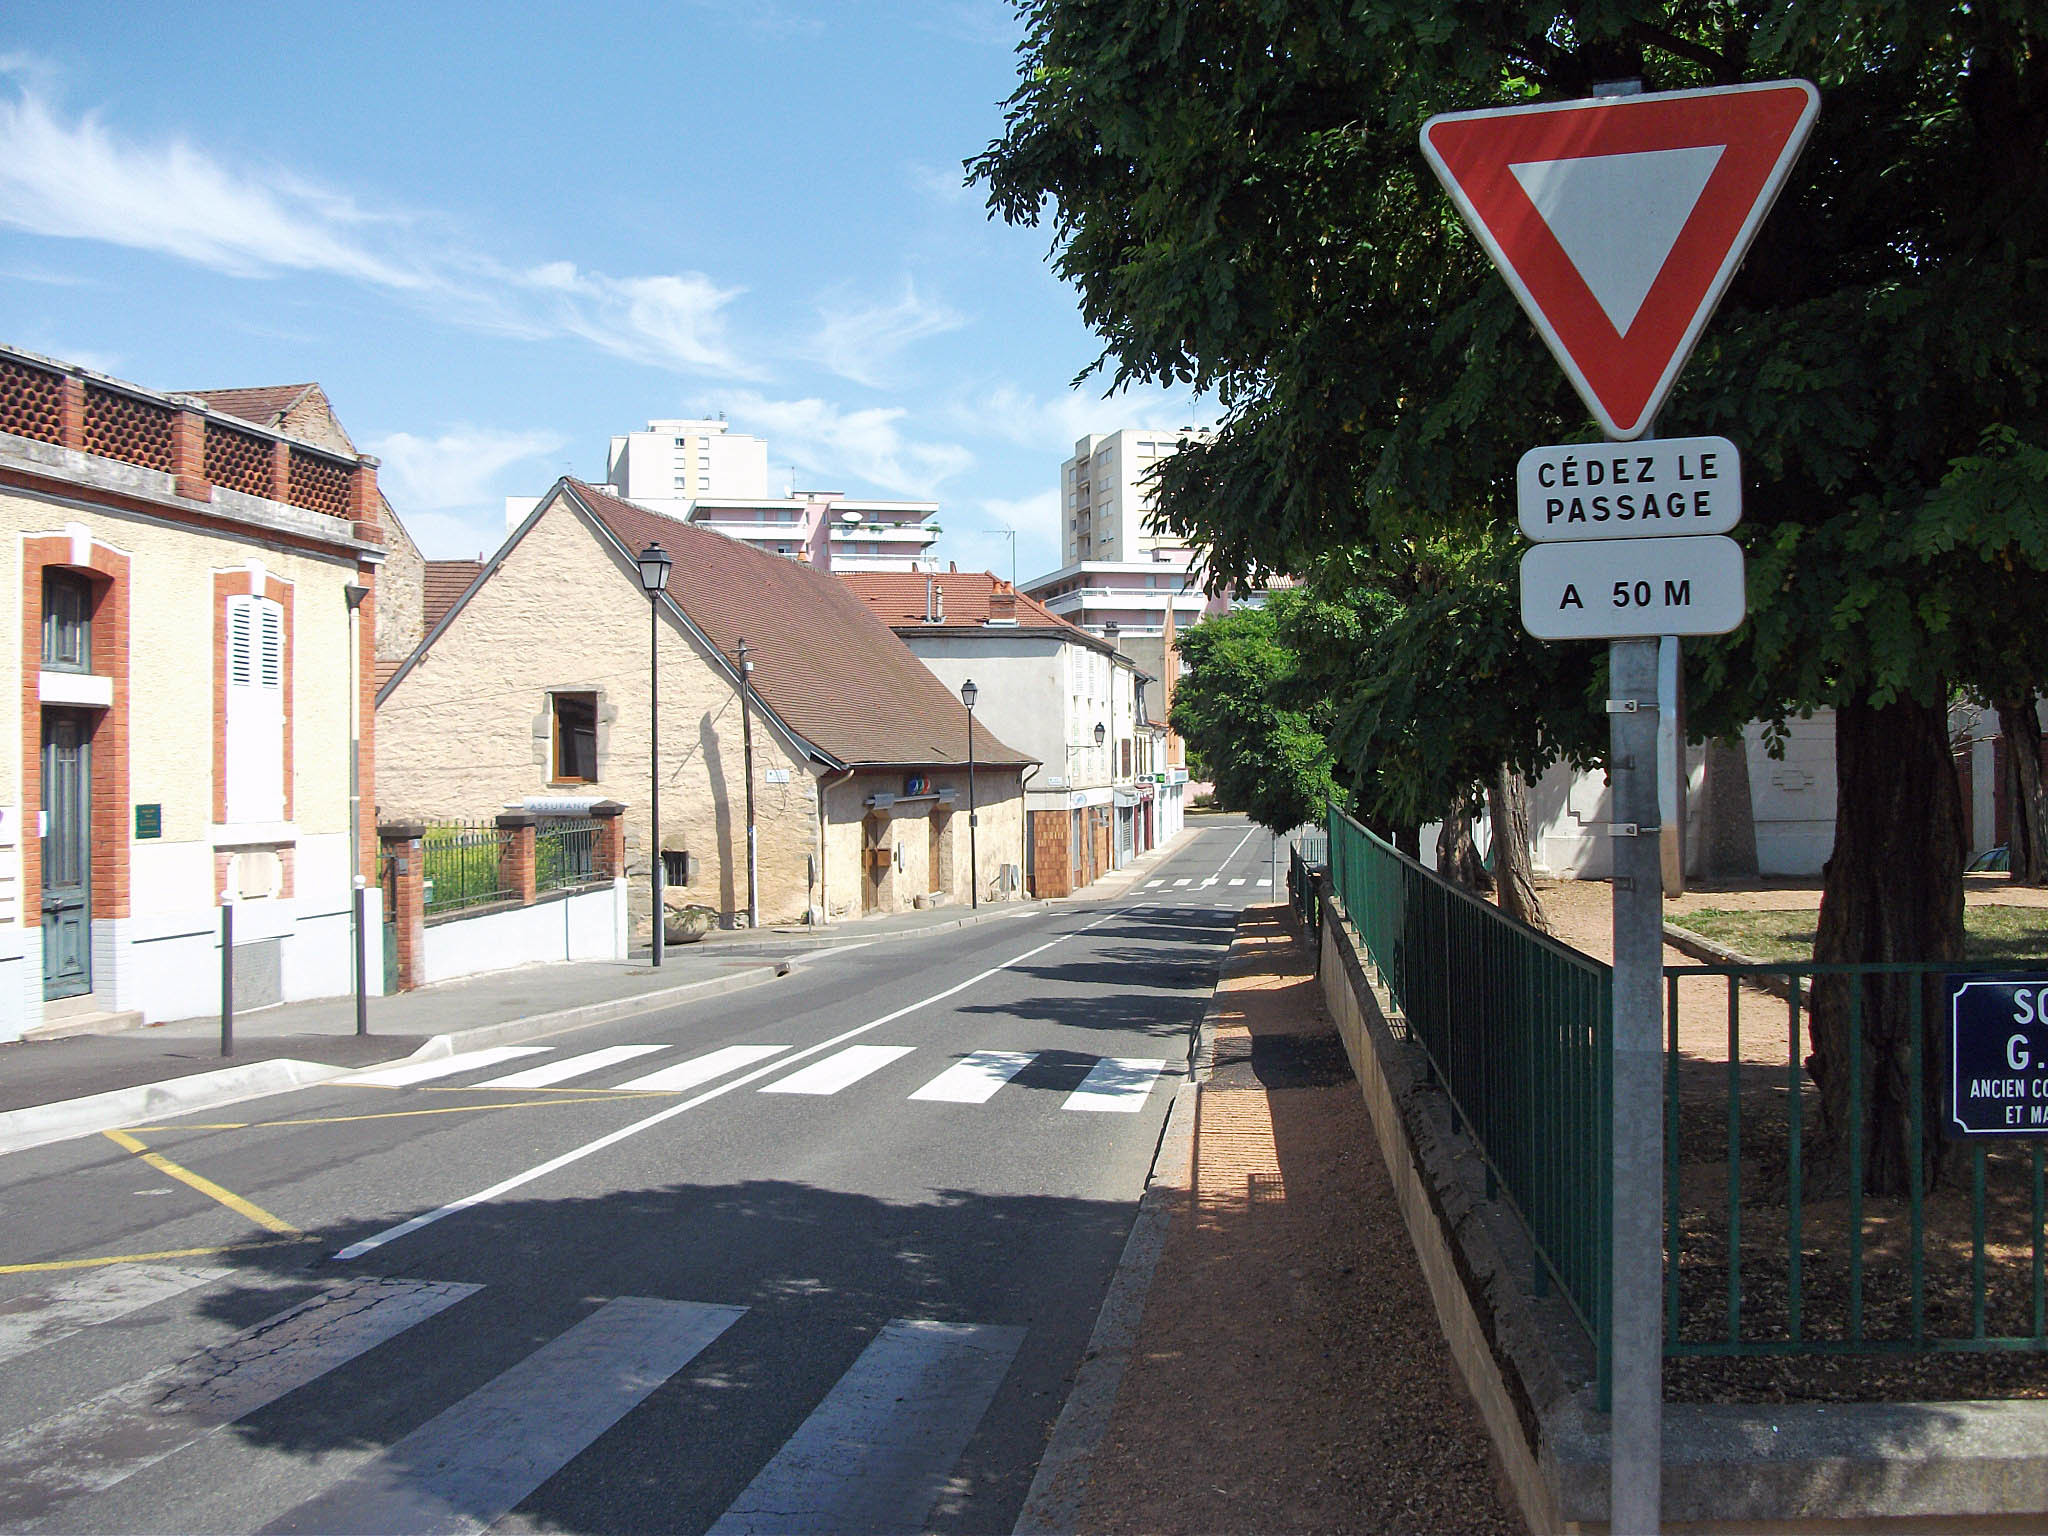sign: (1408, 86, 1808, 650)
